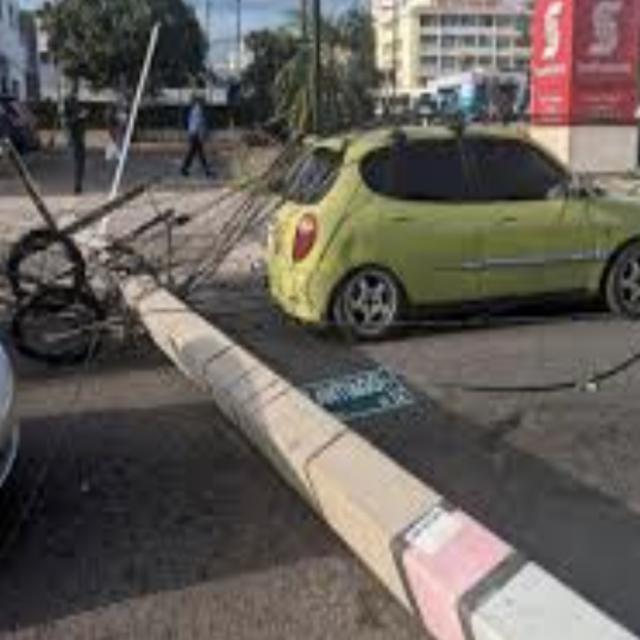Inclined Pole: (0, 180, 640, 640)
